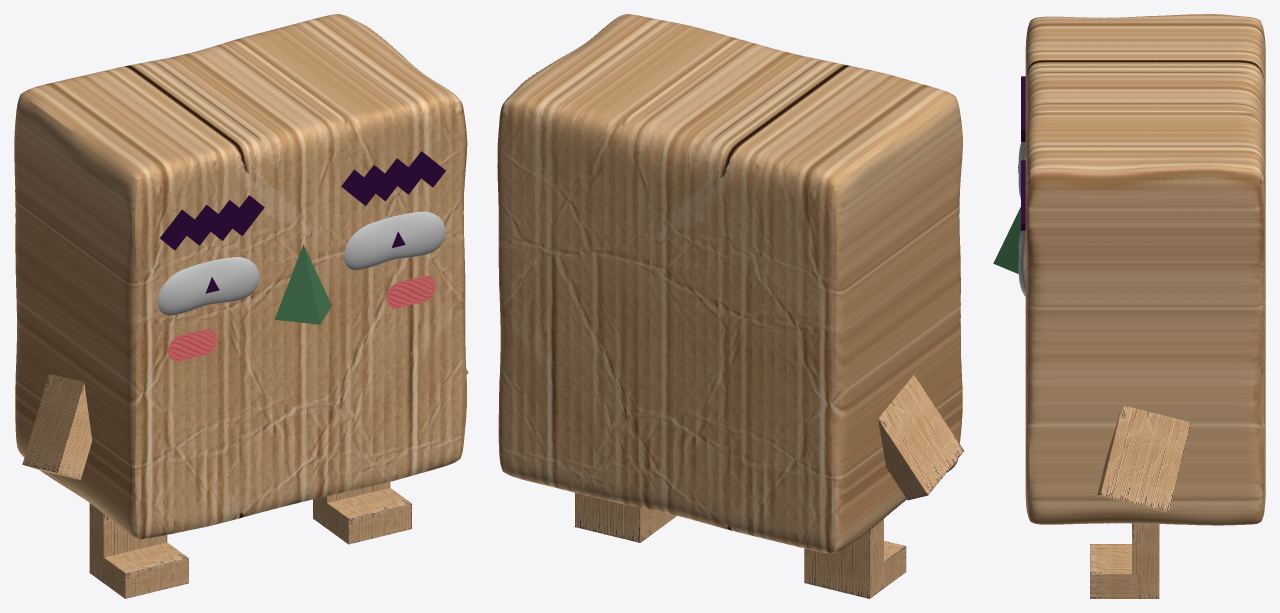
Rendered from boxbbnorm.fbx.
The picture shows the model from 3 angles, left to right: view 1: azimuth 30°, elevation 25°; view 2: azimuth 150°, elevation 25°; view 3: azimuth 270°, elevation 25°; orthographic projection. The views are drawn at different scales.
Visible parts, largest first — view 1: cube_5, Cube_3, Capsule, Capsule_2, Cube_7, Cube_6, Cube_4, Cube, Pyramid, Cube_1, Capsule_3, Capsule_1 (+1 smaller); view 2: cube_5, Cube_3, Cube_1, Cube_2, Cube_6; view 3: cube_5, Cube_5, Cube_7, Cube_2, Pyramid, Capsule.
Part boxes in pixels (box(x1,y1,x2,y2)): cube_5: box(14, 14, 467, 539); Cube_3: box(22, 374, 92, 479); Capsule: box(343, 211, 445, 270); Capsule_2: box(157, 257, 259, 315); Cube_7: box(323, 488, 411, 544); Cube_6: box(102, 542, 188, 598); Cube_4: box(160, 195, 264, 250); Cube: box(341, 151, 445, 205); Pyramid: box(274, 244, 331, 324); Cube_1: box(89, 503, 167, 582); Capsule_3: box(168, 329, 217, 361); Capsule_1: box(386, 276, 435, 308); cube_5: box(497, 14, 962, 553); Cube_3: box(878, 374, 964, 500); Cube_1: box(804, 519, 883, 598); Cube_2: box(575, 493, 651, 542); Cube_6: box(884, 540, 906, 587); cube_5: box(1025, 14, 1265, 525); Cube_5: box(1097, 405, 1190, 512); Cube_7: box(1090, 544, 1139, 598); Cube_2: box(1132, 523, 1159, 598); Pyramid: box(993, 207, 1020, 273); Capsule: box(1018, 230, 1025, 296).
Size of the model in its own units: 177 by 186 by 104.
5 materials, 2 textured.
